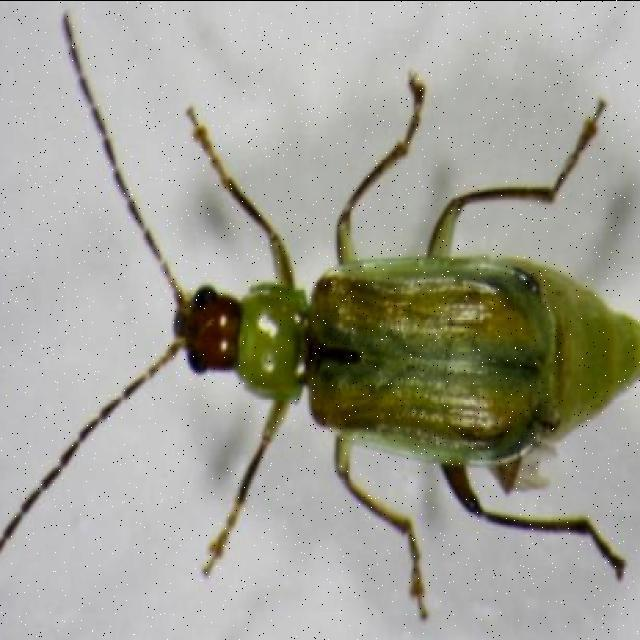gusano_gris: (98, 78, 640, 584)
